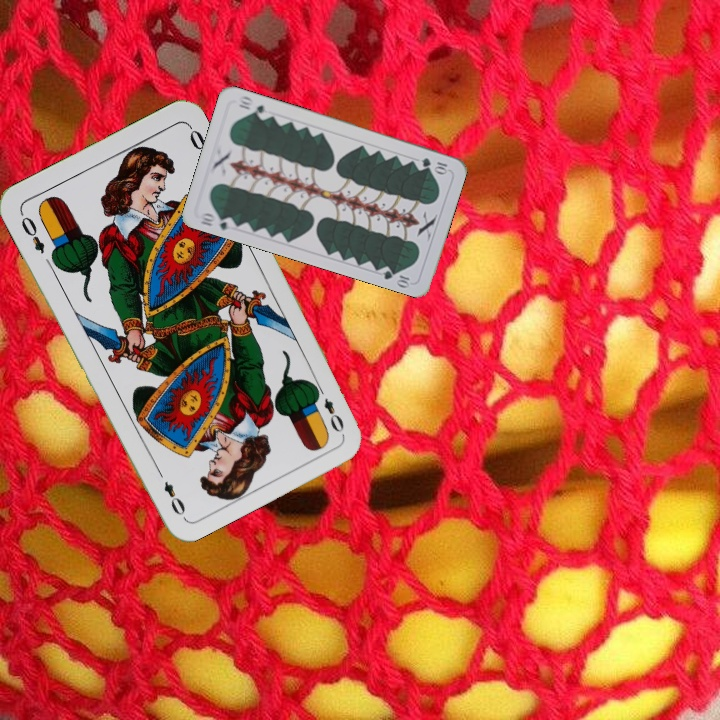EO: (310, 381, 347, 435), (15, 208, 47, 256)
G10: (196, 209, 237, 233), (418, 153, 451, 176)
